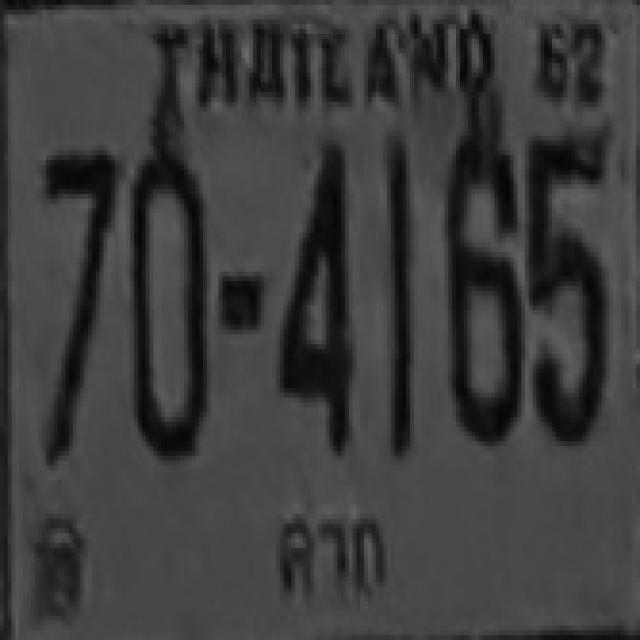0: (128, 148, 205, 453)
4: (274, 136, 351, 451), (274, 136, 351, 392)
7: (42, 150, 115, 330)
Tak: (263, 504, 410, 610)
